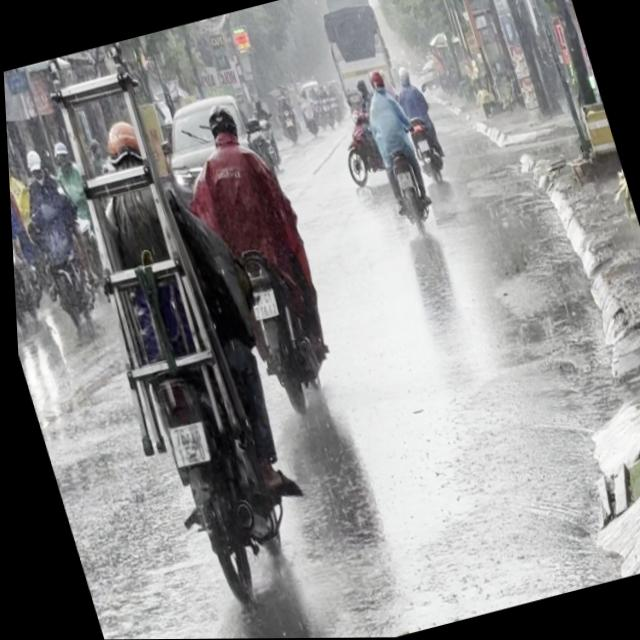helmet: (94, 116, 143, 173), (198, 100, 239, 149), (17, 144, 48, 186)
licenseplate: (36, 92, 328, 636), (173, 89, 354, 437), (6, 143, 101, 331), (6, 154, 51, 332)
nohelmet: (161, 420, 205, 466), (243, 287, 275, 319)
